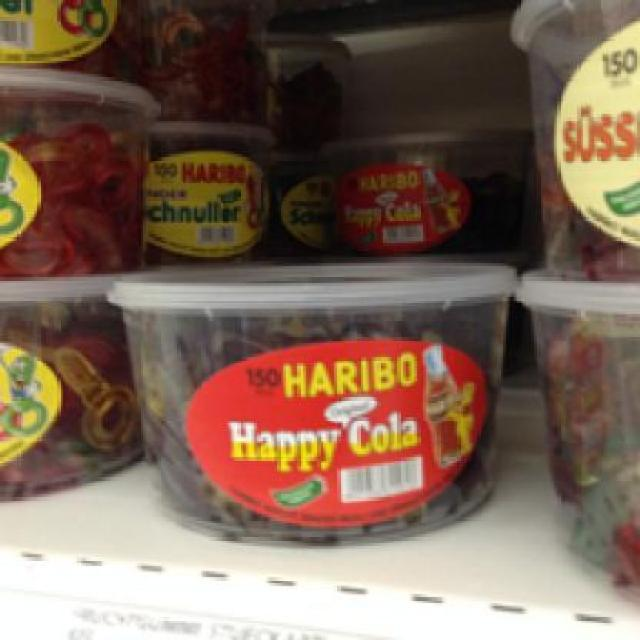Candy: (122, 246, 518, 532), (422, 260, 638, 569), (488, 0, 638, 263), (0, 267, 152, 521), (0, 69, 163, 268)
